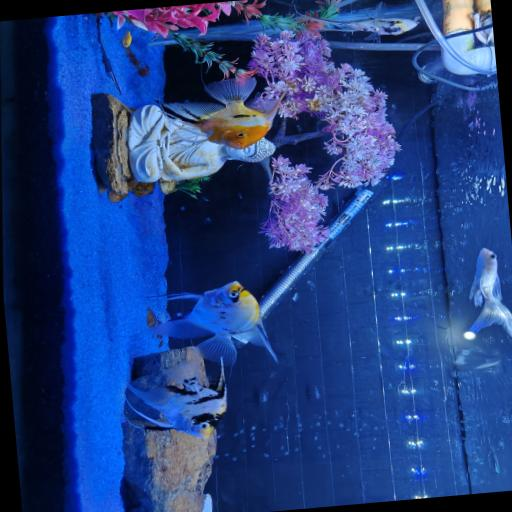Fish: (141, 281, 276, 364), (162, 77, 283, 148), (126, 360, 225, 436), (298, 2, 417, 39), (464, 247, 511, 338), (121, 31, 131, 47)
